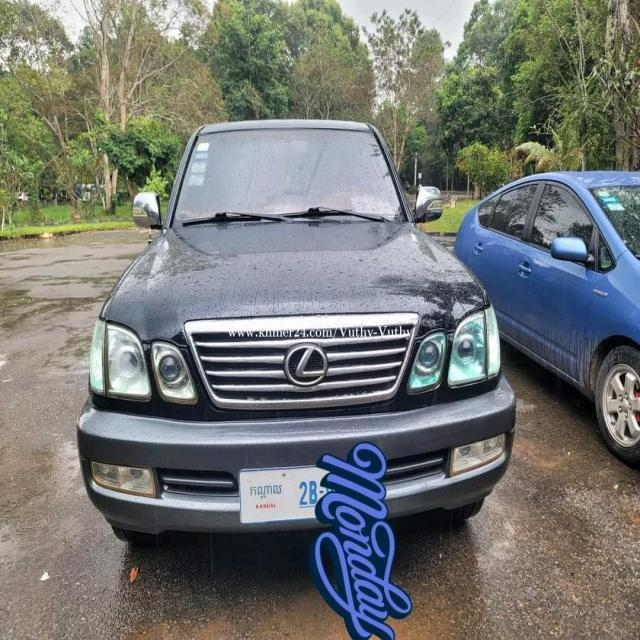Kandal: (250, 484, 282, 498)
